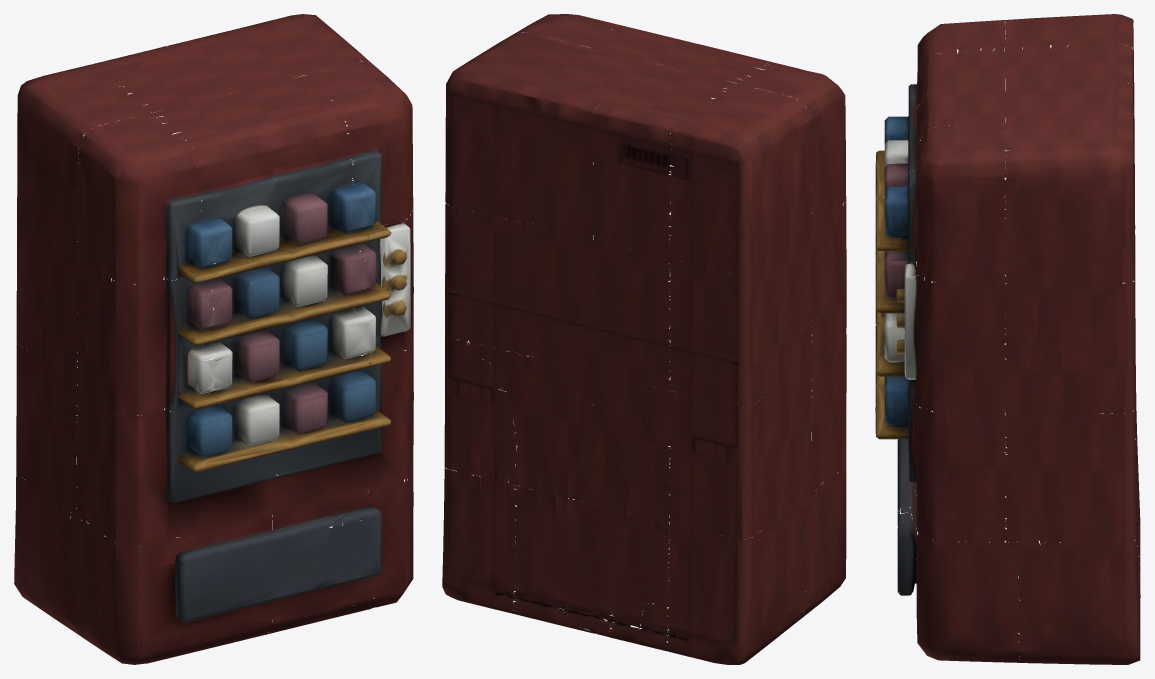
The model's file is model-DRVSjoGK.glb.
3 renders of one model, left to right at view 1: azimuth 30°, elevation 25°; view 2: azimuth 150°, elevation 25°; view 3: azimuth 270°, elevation 25°, orthographic.
Visible parts, largest first — view 1: world; view 2: world; view 3: world.
Part boxes in pixels (box(x1,y1,x2,y2)): world: box(14, 14, 413, 664); world: box(442, 14, 846, 664); world: box(875, 14, 1140, 664).
Bounding box in the file's own units: 1.25 × 2.05 × 0.9494.
1 material, 1 textured.
